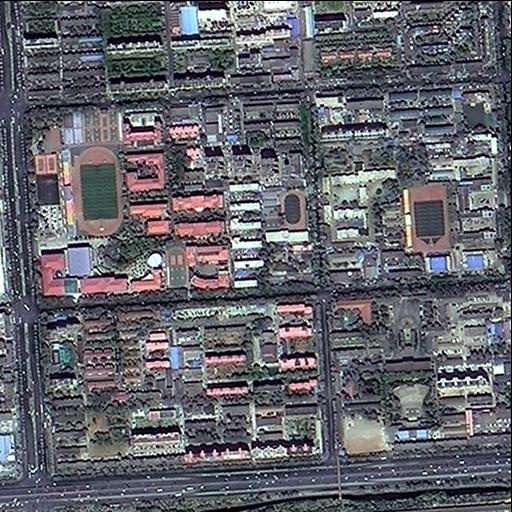school: (21, 101, 165, 293), (399, 87, 501, 277), (259, 180, 314, 247), (167, 239, 233, 291)
